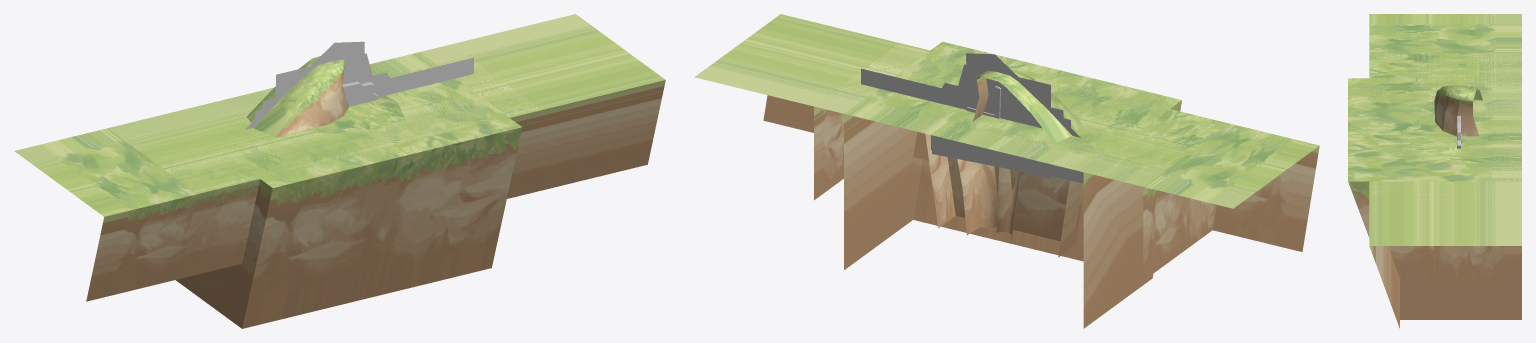
File: Redwood Assets.fbx
The picture shows the model from 3 angles, left to right: view 1: azimuth 30°, elevation 25°; view 2: azimuth 150°, elevation 25°; view 3: azimuth 270°, elevation 25°; orthographic projection. The views are drawn at different scales.
Visible parts, largest first — view 1: Ground_High, Ground_Long, Ground_Right, Ground_Left, Step_Slope, Cliff_Plano, Master_Png.002, Grass_Row_01, Master_Png.003, Master_Png.001; view 2: Ground_High, Ground_Long, Ground_Right, Step_Small, Ground_Left, Cliff_Plano, Master_Png.002, Step_Slope, Master_Png.001, Master_Png.004, Grass_Row_01, Plank_Round_Rot; view 3: Ground_High, Ground_Long, Ground_Left, Ground_Right, Step_Slope, Cliff_Plano.
Part boxes in pixels (box(x1,y1,x2,y2)): Ground_High: box(175, 52, 522, 328); Ground_Long: box(14, 14, 665, 301); Ground_Right: box(108, 88, 384, 278); Ground_Left: box(356, 44, 540, 155); Step_Slope: box(247, 56, 348, 137); Cliff_Plano: box(306, 95, 406, 133); Master_Png.002: box(245, 41, 364, 129); Grass_Row_01: box(255, 57, 473, 125); Master_Png.003: box(263, 72, 398, 117); Master_Png.001: box(276, 53, 372, 97); Ground_High: box(844, 41, 1181, 328); Ground_Long: box(694, 14, 1319, 251); Ground_Right: box(966, 81, 1223, 280); Step_Small: box(925, 133, 1083, 257); Ground_Left: box(814, 43, 1048, 200); Cliff_Plano: box(957, 159, 1023, 243); Master_Png.002: box(951, 53, 1083, 183); Step_Slope: box(973, 69, 1081, 143); Master_Png.001: box(931, 64, 1051, 178); Master_Png.004: box(932, 135, 1051, 177); Grass_Row_01: box(861, 68, 1070, 132); Plank_Round_Rot: box(962, 91, 1037, 126); Ground_High: box(1348, 78, 1521, 319); Ground_Long: box(1369, 14, 1521, 328); Ground_Left: box(1369, 131, 1521, 277); Ground_Right: box(1369, 52, 1521, 129); Step_Slope: box(1434, 85, 1482, 136); Cliff_Plano: box(1401, 113, 1460, 153).
Size of the model in its own units: 1800 by 700 by 570.
